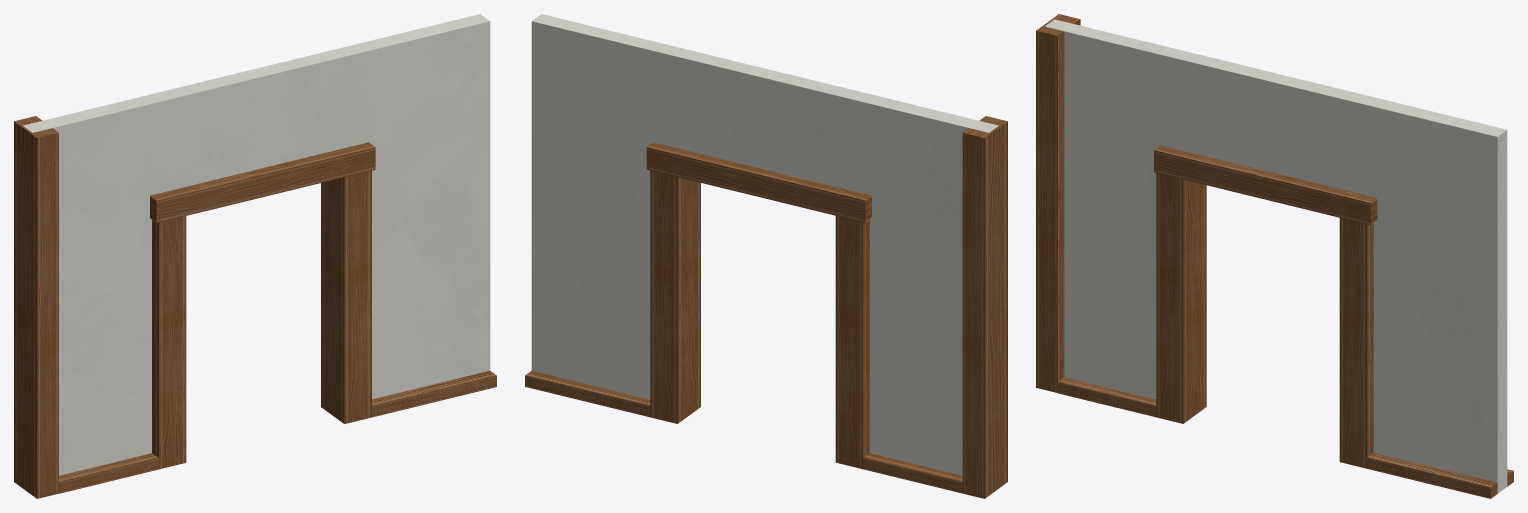
File: SM_Door_Wall_01_wstone.glb
3 views of the same model, side by side, from view 1: azimuth 30°, elevation 25°; view 2: azimuth 150°, elevation 25°; view 3: azimuth 330°, elevation 25° (orthographic).
Parts seen in each view (by area): view 1: SM_Door_Wall_01; view 2: SM_Door_Wall_01; view 3: SM_Door_Wall_01.
Part boxes in pixels (left/top/right/bottom): SM_Door_Wall_01: left=14, top=14, right=496, bottom=498; SM_Door_Wall_01: left=525, top=14, right=1007, bottom=498; SM_Door_Wall_01: left=1036, top=14, right=1513, bottom=498.
Size of the model in its own units: 4 by 3 by 0.3524.
2 materials, 2 textured.
